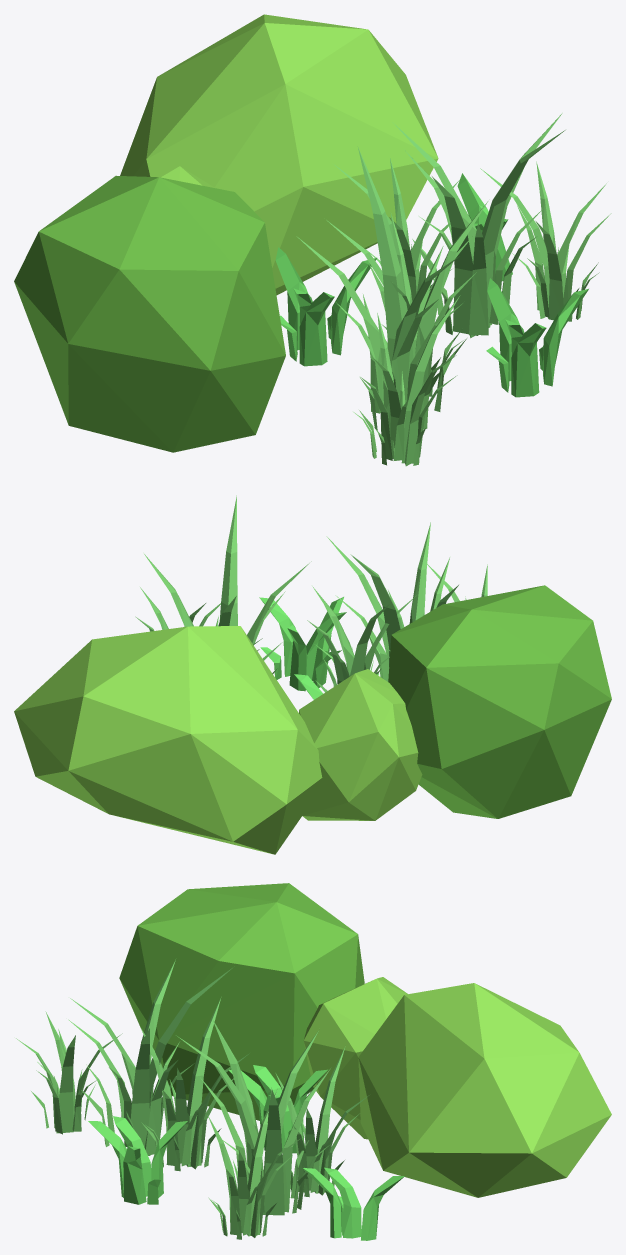
File: vegetacion2.glb
The picture shows the model from 3 angles, top to bottom: view 1: azimuth 30°, elevation 25°; view 2: azimuth 150°, elevation 25°; view 3: azimuth 270°, elevation 25°; orthographic projection. The views are drawn at different scales.
Size of the model in its own units: 0.9352 by 0.4291 by 1.05.
